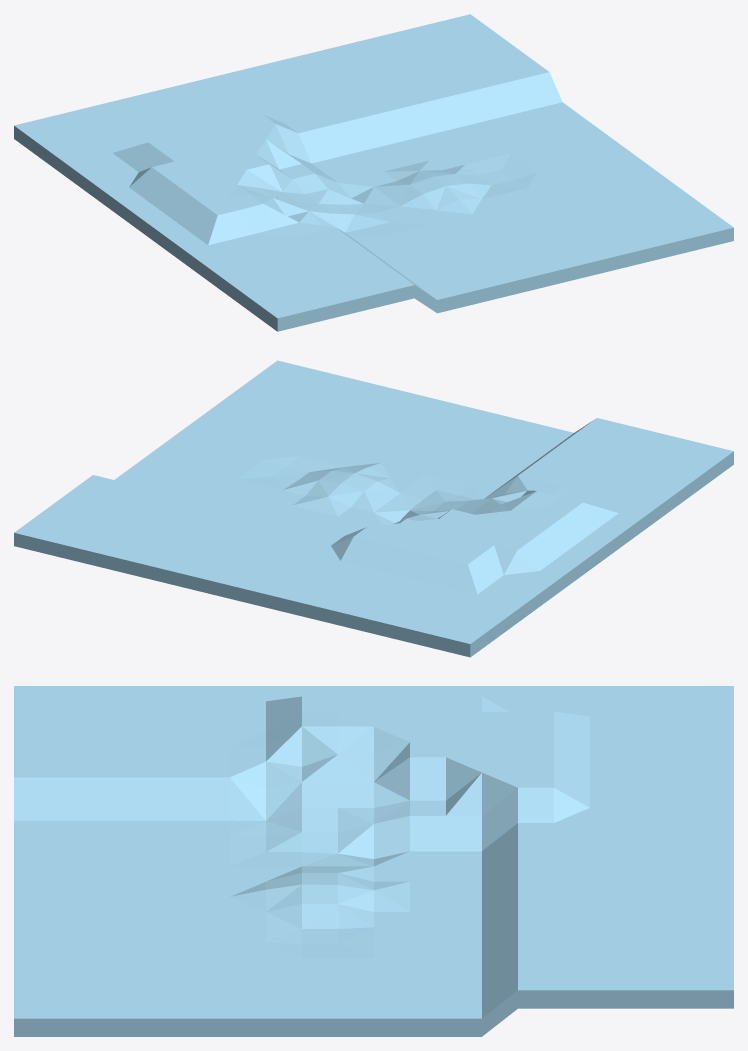
Rendered from ground.obj.
3 renders of one model, top to bottom at view 1: azimuth 30°, elevation 25°; view 2: azimuth 150°, elevation 25°; view 3: azimuth 270°, elevation 25°, orthographic. The views are drawn at different scales.
Visible parts, largest first — view 1: default; view 2: default; view 3: default.
Part boxes in pixels (left/top/right/bottom): default: left=14, top=14, right=733, bottom=331; default: left=14, top=360, right=733, bottom=657; default: left=14, top=686, right=733, bottom=1036.
Size of the model in its own units: 36.76 by 5.17 by 36.76.
